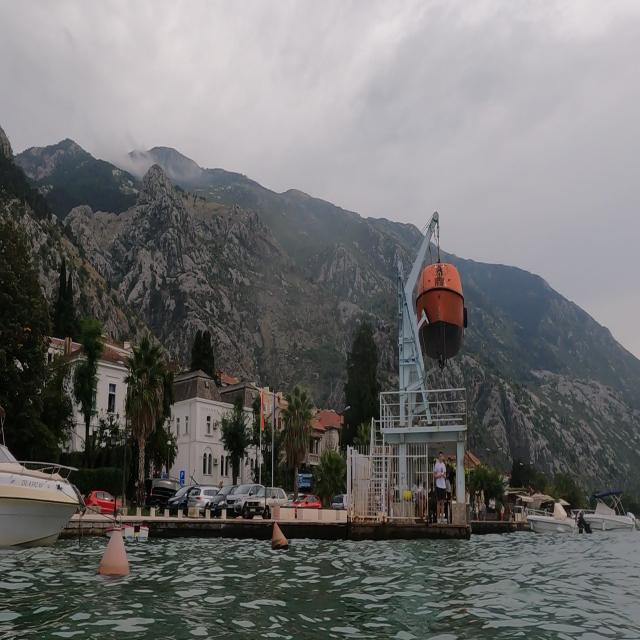buoy: (98, 508, 136, 583), (268, 516, 293, 554)
